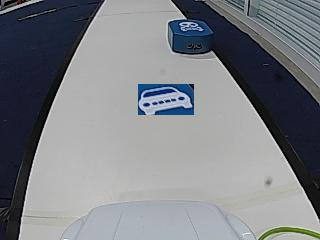danger: (179, 20, 203, 31)
